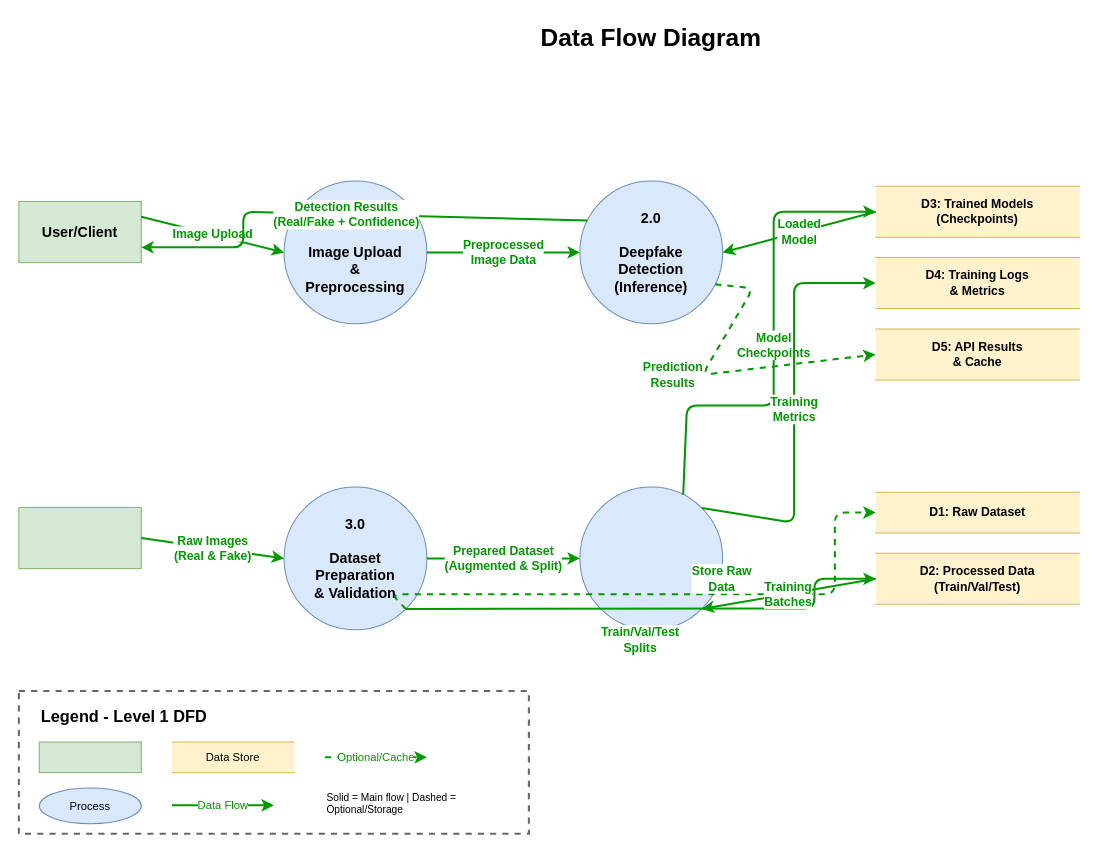
Some shapes in this 1098 by 852 pixel diagram are drawn without their labels. The shapes that lost their labels are listed below. From the top down, each one's box as (x1, y1, x2, y2) in pixels, then its label:
(18, 506, 141, 569): Dataset Source (CIFAKE, etc.)
(579, 486, 723, 630): 4.0 Model Training & Validation
(38, 741, 141, 773): External Entity
